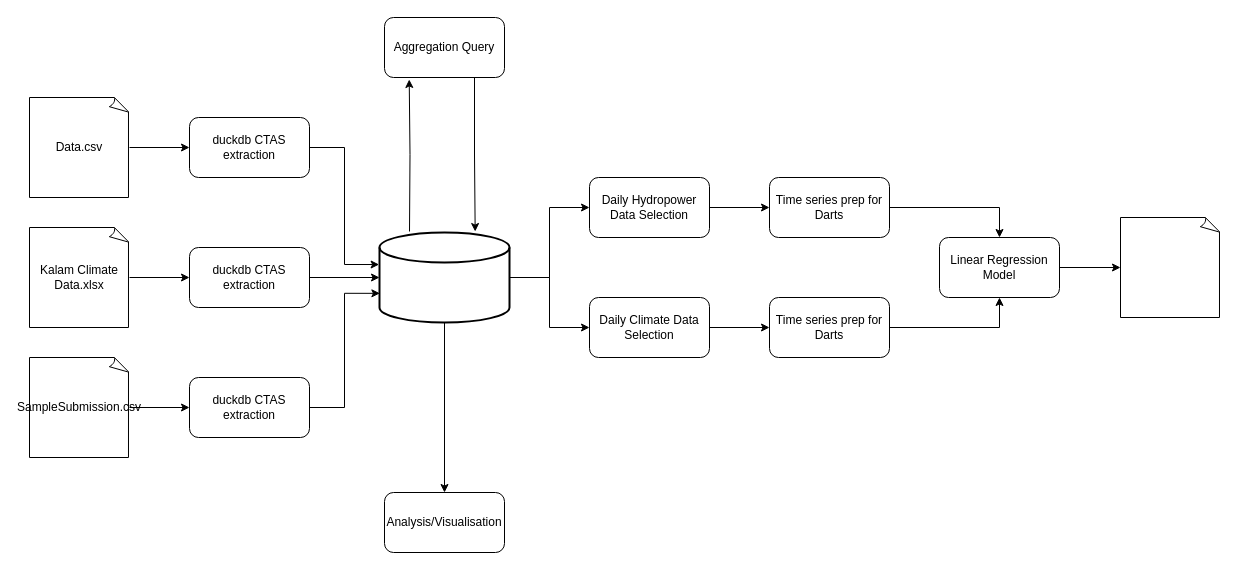
Some shapes in this 1238 by 570 pixel diagram are drawn without their labels. Here are the shapes that lost their labels. From the top down, the centre of each, then its label:
At [444,277]: "kalam_hydropower.db".
At [1170,267]: "forecast.csv".
